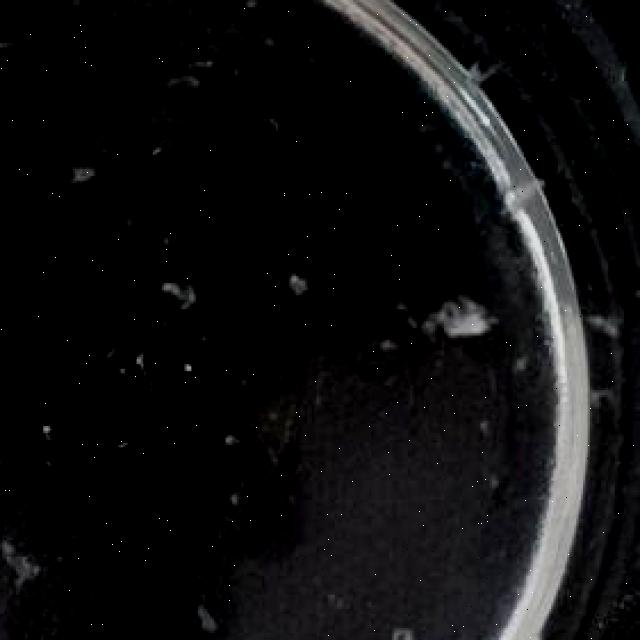Microplastic: (406, 276, 510, 366), (150, 252, 214, 331), (0, 525, 52, 597), (282, 252, 319, 312), (70, 150, 104, 207), (185, 590, 232, 628)
